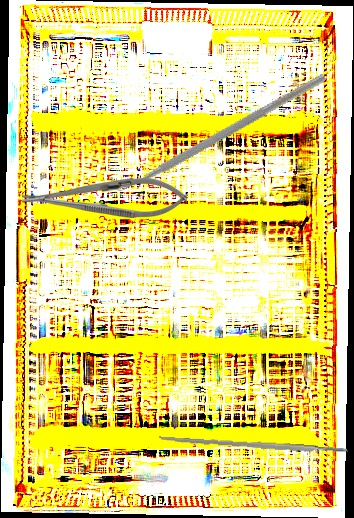Chopper: (99, 5, 328, 257)
Needle Holder: (22, 177, 187, 218)
Scalpel Handle: (158, 434, 350, 456)
